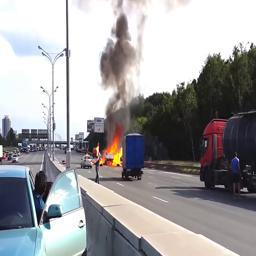fire: (95, 123, 123, 166)
